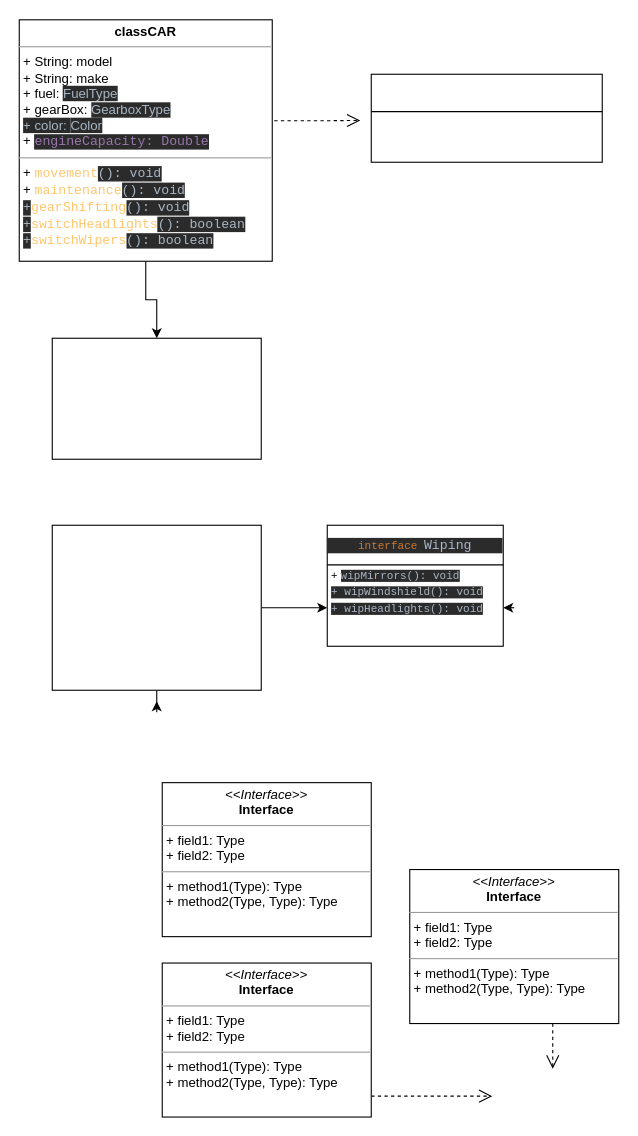
The diagram is 638 pixels wide and 1136 high, and some of its shapes have lost their labels. The shapes that lost their labels are listed below. From the top down, each one's centre as x and y in pixels, then its label:
the point at 486,117: class SuperCar + sweeping (): void
the point at 156,398: class Harvester + wheelsCount = 3 ; + void movement () : fly()
the point at 156,607: interface Refueling + RefuelingStation: type + fuel (fuelType): void +
